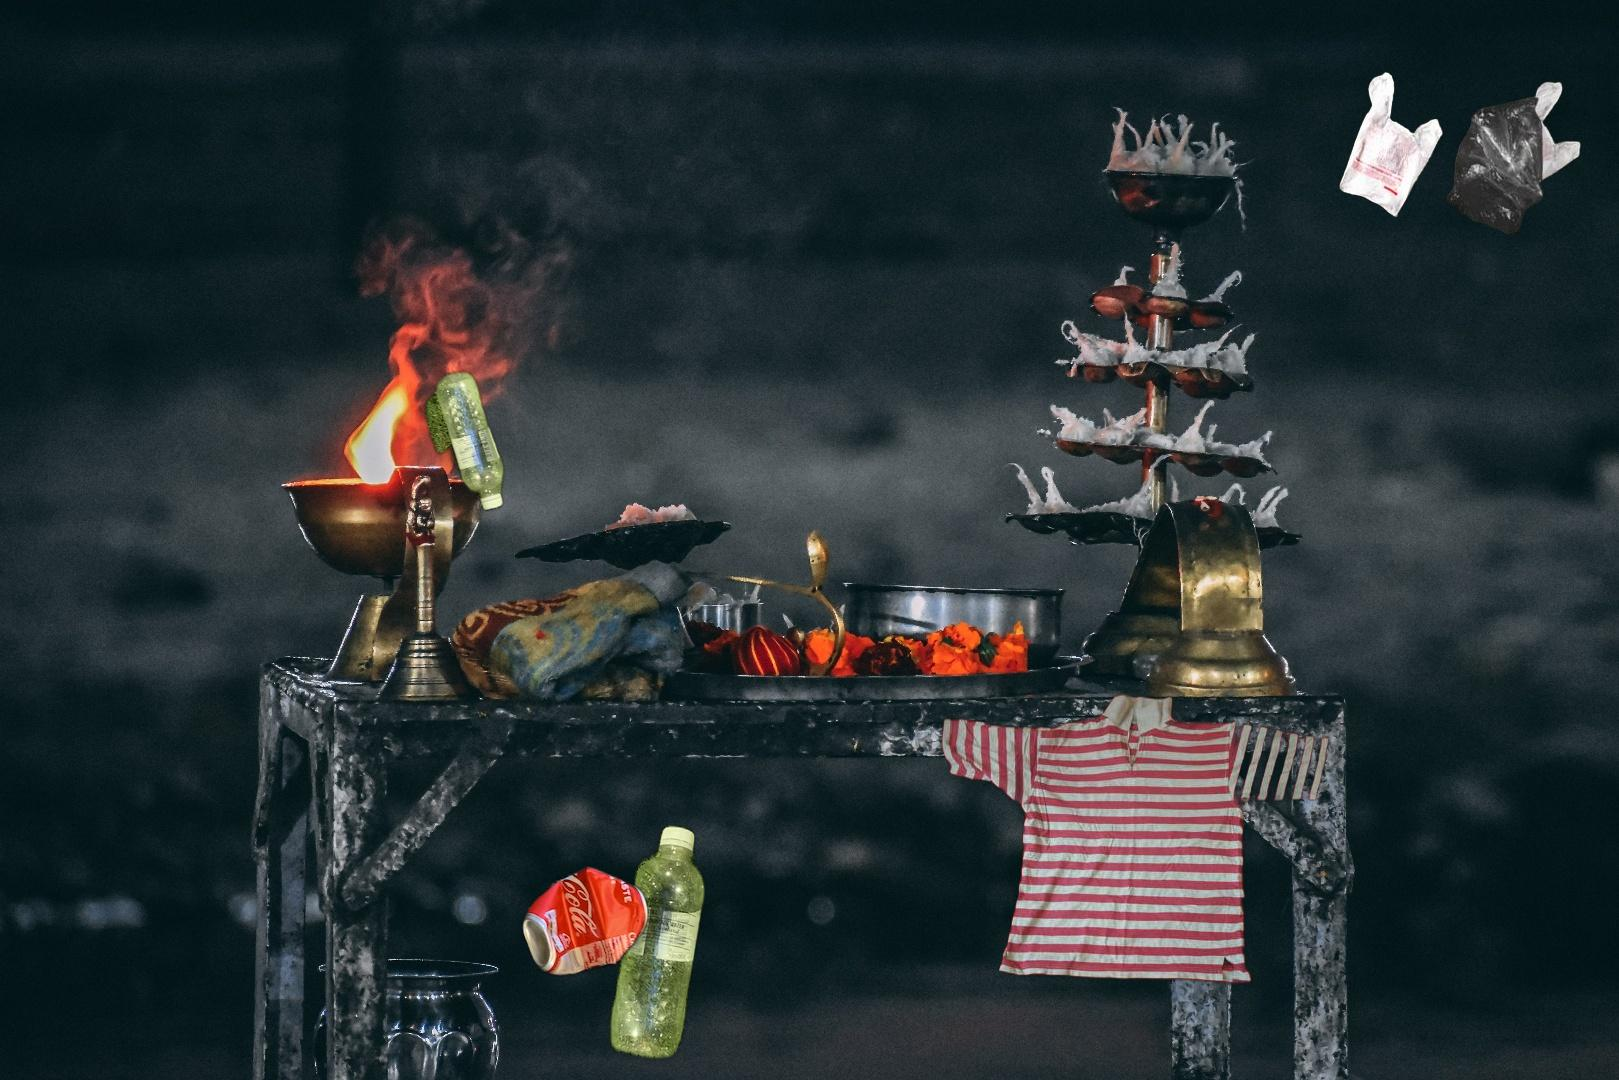clothes: (940, 598, 1334, 990)
glass: (1521, 733, 1619, 1062)
metal-cans: (518, 861, 653, 982)
plastic-bag: (1337, 70, 1584, 237)
plastic-bottles: (605, 820, 709, 1066), (420, 365, 509, 517)
